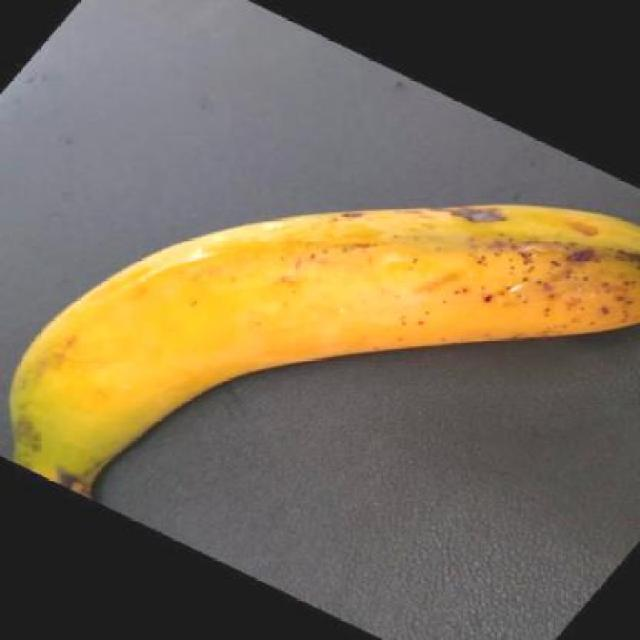Ripe: (0, 159, 640, 507)
